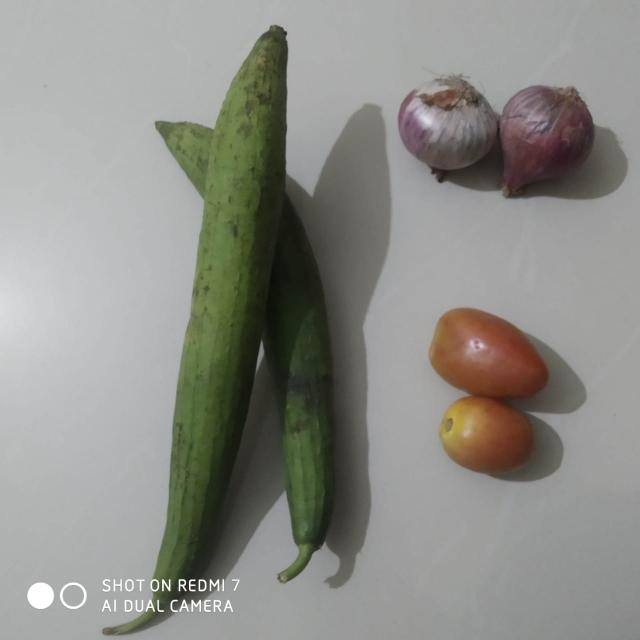Organik: (117, 17, 359, 618), (489, 80, 592, 207), (398, 65, 490, 193), (432, 303, 552, 400), (432, 402, 544, 486)
